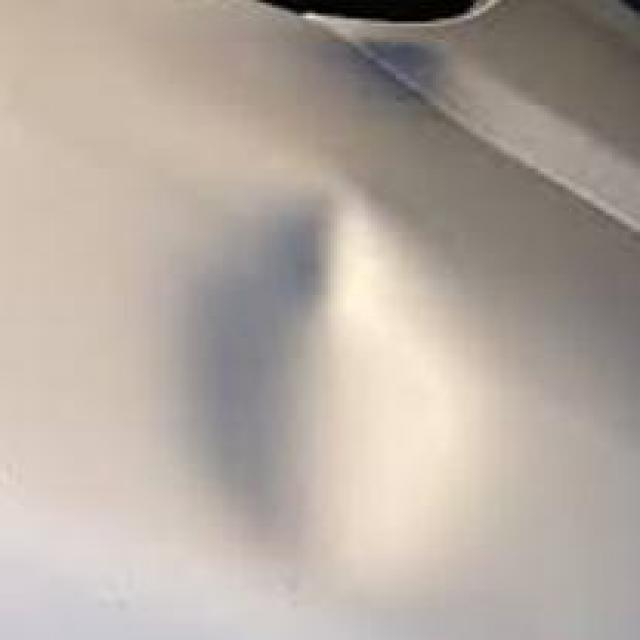dent: (152, 186, 466, 580)
